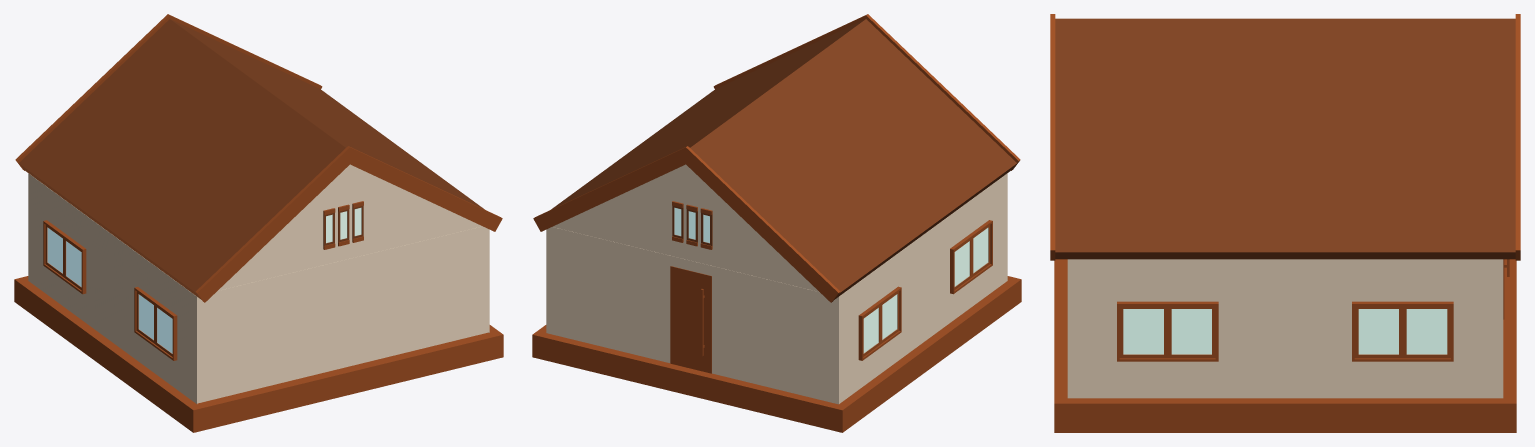
Rendered from ResidentialHouse.glb.
3 views of the same model, side by side, from view 1: azimuth 30°, elevation 25°; view 2: azimuth 150°, elevation 25°; view 3: azimuth 270°, elevation 25° (orthographic). The views are drawn at different scales.
Visible parts, largest first — view 1: Roof, Wall.Back, Wall.Right, Base, Roof.Group, WindowFrame, WindowFrame.001, Roof.Window.Back; view 2: Roof, Wall.Front, Wall.Right, Base, Roof.Group, Door, WindowFrame, WindowFrame.001, Roof.Window.Front; view 3: Roof, Wall.Left, Base, WindowFrame.002, WindowFrame.003.
Boxes of the visible parts, x1=… form: Roof: x1=15, y1=14, x2=502, y2=302; Wall.Back: x1=197, y1=226, x2=489, y2=403; Wall.Right: x1=28, y1=173, x2=197, y2=403; Base: x1=14, y1=276, x2=503, y2=432; Roof.Group: x1=218, y1=164, x2=481, y2=290; WindowFrame: x1=43, y1=220, x2=86, y2=294; WindowFrame.001: x1=134, y1=287, x2=177, y2=360; Roof.Window.Back: x1=323, y1=201, x2=363, y2=249; Roof: x1=533, y1=14, x2=1020, y2=302; Wall.Front: x1=546, y1=227, x2=838, y2=404; Wall.Right: x1=838, y1=173, x2=1007, y2=403; Base: x1=532, y1=276, x2=1021, y2=432; Roof.Group: x1=552, y1=164, x2=818, y2=291; Door: x1=670, y1=266, x2=711, y2=373; WindowFrame: x1=858, y1=286, x2=901, y2=360; WindowFrame.001: x1=950, y1=220, x2=992, y2=294; Roof.Window.Front: x1=672, y1=201, x2=712, y2=249; Roof: x1=1050, y1=14, x2=1520, y2=260; Wall.Left: x1=1067, y1=259, x2=1503, y2=398; Base: x1=1054, y1=259, x2=1516, y2=432; WindowFrame.002: x1=1352, y1=301, x2=1453, y2=361; WindowFrame.003: x1=1117, y1=301, x2=1218, y2=361.
Size of the model in its own units: 8.6 by 6.6 by 8.75.
